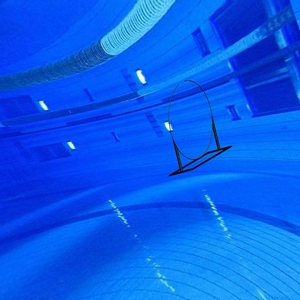circle: (166, 78, 234, 178)
